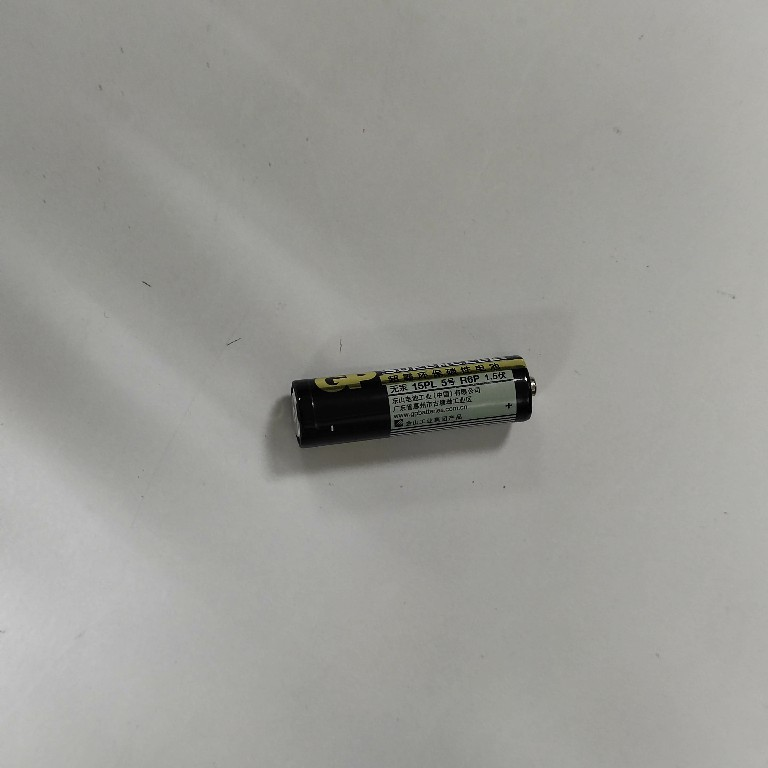charge: (285, 352, 541, 448)
